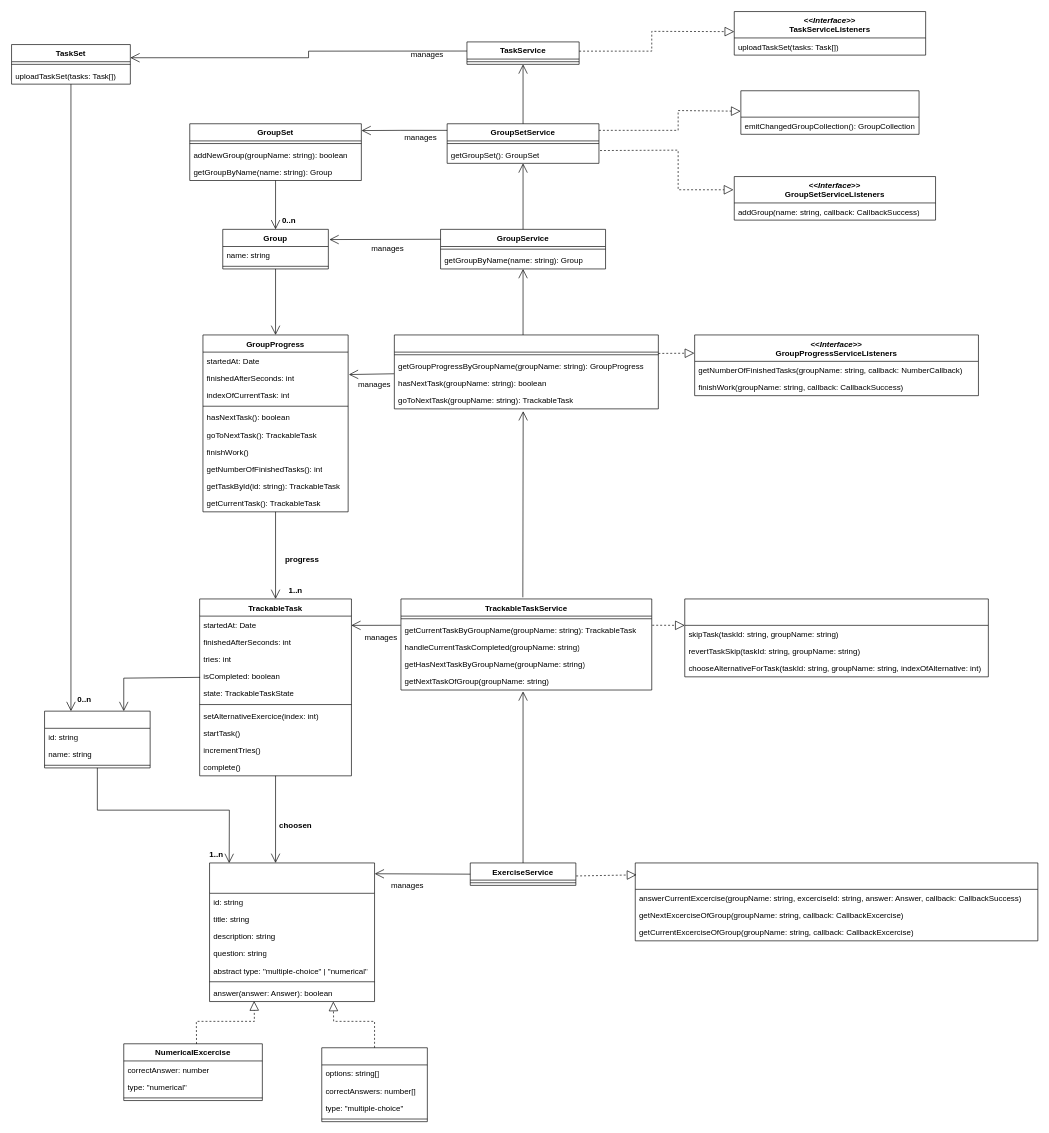
The diagram is 1049 pixels wide and 1133 high, and some of its shapes have lost their labels. The shapes that lost their labels are listed below. From the top down, each one's box as (x1, y1, x2, y2) in pixels, then its label:
(740, 90, 919, 134): << Interface >> GroupSetServiceEmits
(394, 334, 658, 409): GroupProgressService
(684, 598, 988, 677): << Interface >> TrackableTaskServiceListeners
(44, 710, 150, 768): Task
(635, 862, 1038, 941): << Interface >> ExcerciseServiceListeners
(209, 862, 375, 1002): << Abstract >> Excercise
(321, 1047, 427, 1122): MultipleChoiceExcercise
